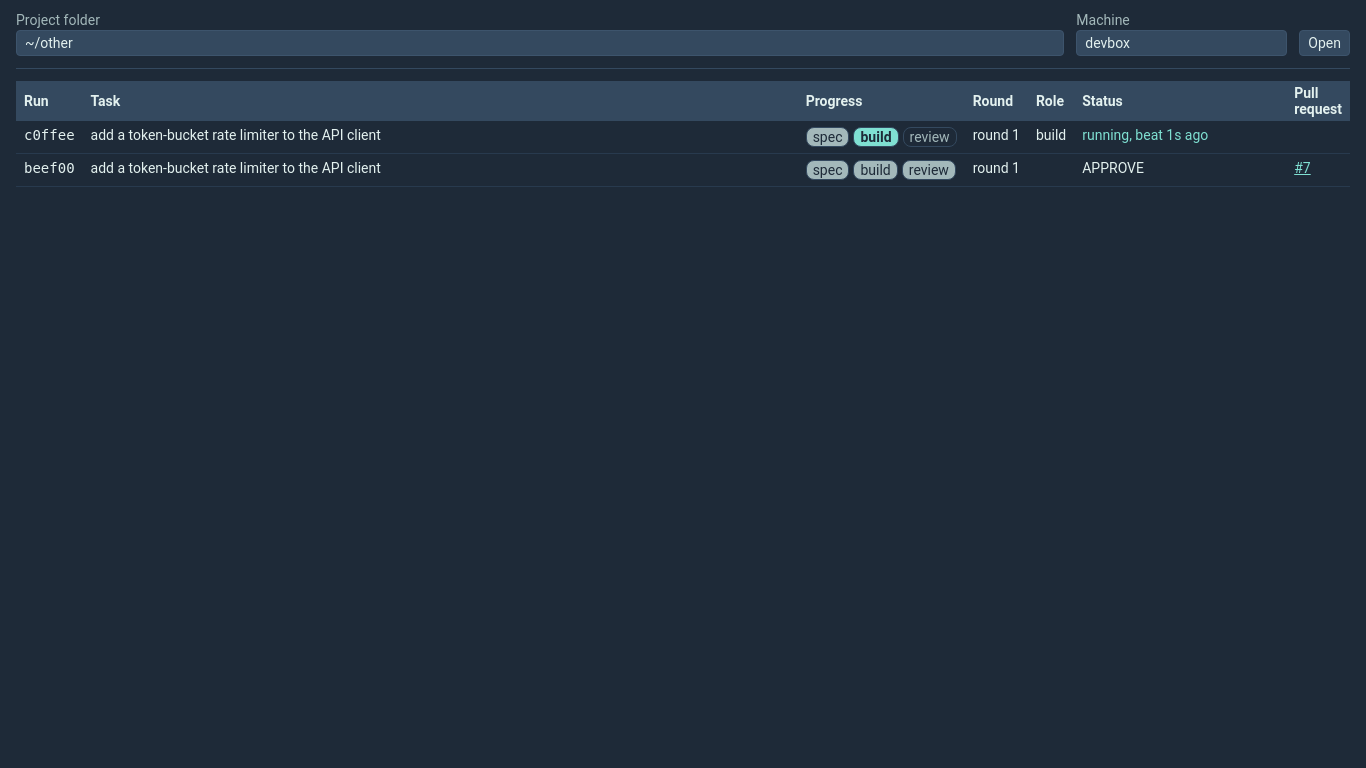
Test: the agents › shows the current role's agent first, and another when its tab is chosen
Click the row that starts with "c0ffee": [683, 137] box [16,121,1350,154]
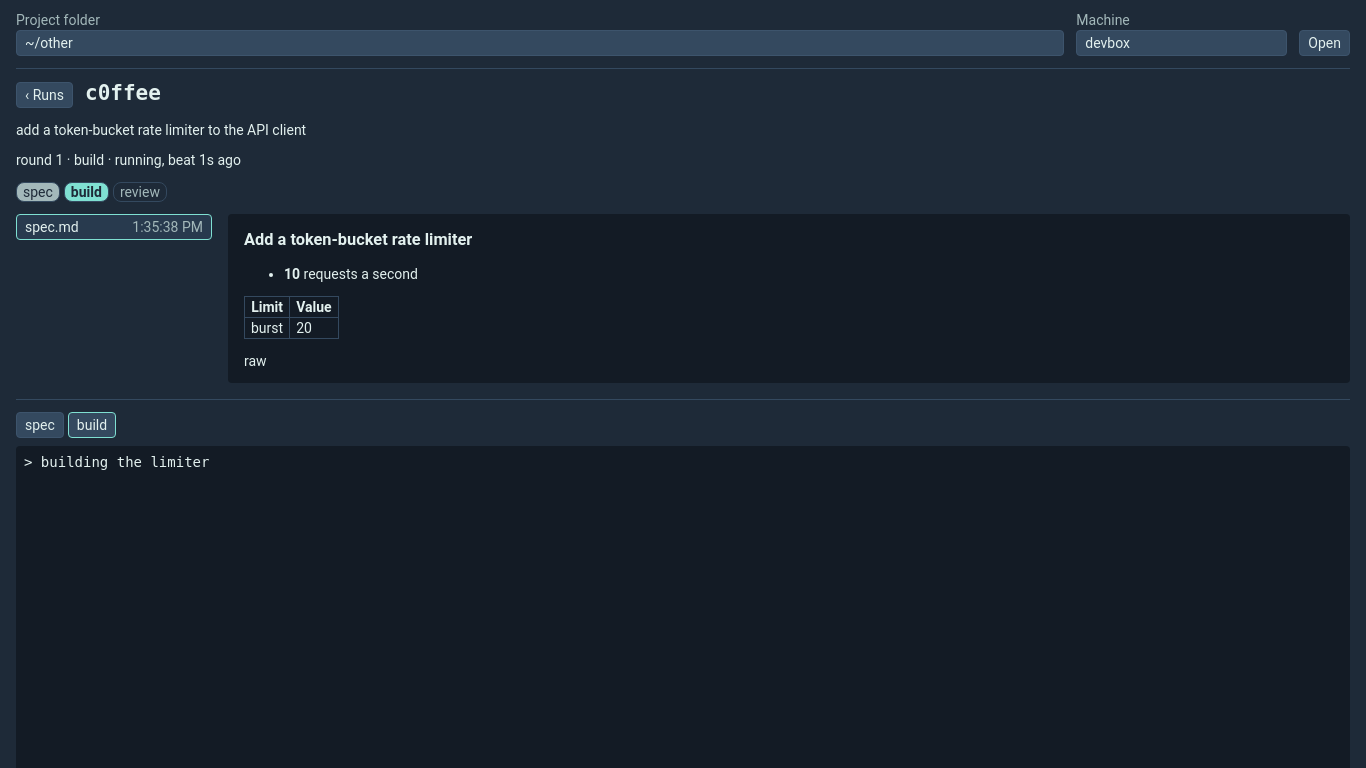
Check: the tabs read "spec", "build", in this order
Click the tab "spec": [40, 425] box [16,412,64,438]
(page scrolled)
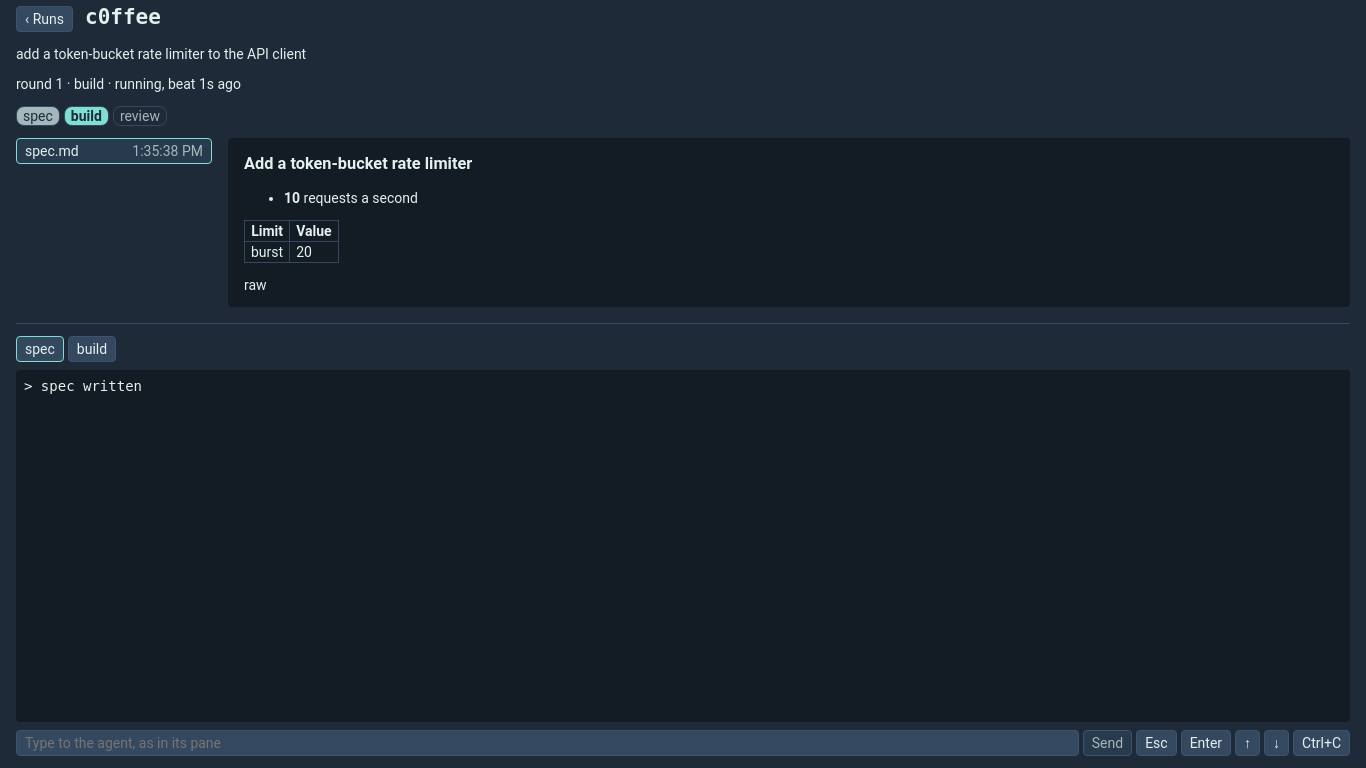
Check: the text "> spec written" is shown, box [16,370,1350,722]
